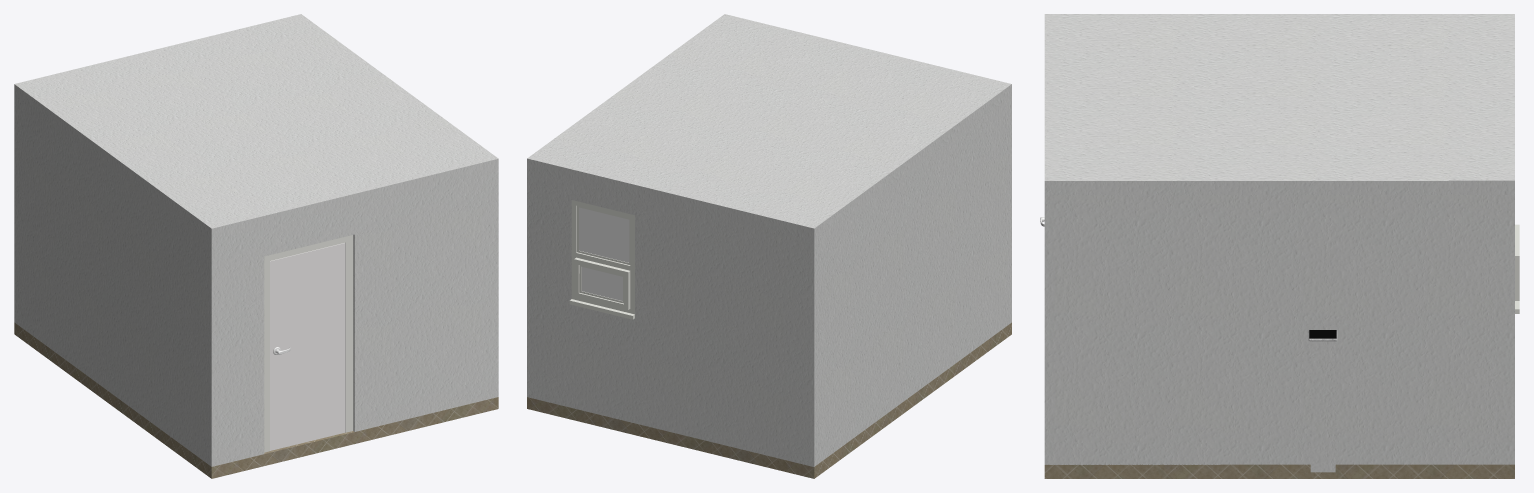
File: FloorPlan414_physics.fbx
The picture shows the model from 3 angles, left to right: view 1: azimuth 30°, elevation 25°; view 2: azimuth 150°, elevation 25°; view 3: azimuth 270°, elevation 25°; orthographic projection. The views are drawn at different scales.
Parts seen in each view (by area): view 1: FP414:Walls, FP414:Ceiling, FP414:Door.009, FP414:Floor, FP414:DoorFrame.009; view 2: FP414:Walls, FP414:Ceiling, FP414:Floor, FP414:polySurface78, FP414:polySurface77; view 3: FP414:Walls, FP414:Ceiling, FP414:Floor, FP414:Cube.1890.
Boxes of the visible parts, x1=… form: FP414:Walls: x1=14, y1=96, x2=498, y2=466; FP414:Ceiling: x1=14, y1=14, x2=498, y2=240; FP414:Door.009: x1=270, y1=243, x2=345, y2=450; FP414:Floor: x1=14, y1=322, x2=498, y2=478; FP414:DoorFrame.009: x1=264, y1=235, x2=353, y2=452; FP414:Walls: x1=527, y1=96, x2=1011, y2=466; FP414:Ceiling: x1=527, y1=14, x2=1011, y2=240; FP414:Floor: x1=527, y1=322, x2=1011, y2=478; FP414:polySurface78: x1=569, y1=200, x2=634, y2=319; FP414:polySurface77: x1=579, y1=207, x2=629, y2=300; FP414:Walls: x1=1044, y1=194, x2=1514, y2=464; FP414:Ceiling: x1=1044, y1=14, x2=1514, y2=195; FP414:Floor: x1=1044, y1=464, x2=1514, y2=478; FP414:Cube.1890: x1=1308, y1=330, x2=1337, y2=472.
Bounding box in the file's own units: 335 × 265 × 386.
